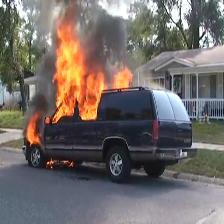fire: (60, 37, 83, 118), (87, 75, 103, 115), (116, 73, 131, 89)
smoke: (94, 15, 123, 61), (34, 57, 53, 112)
